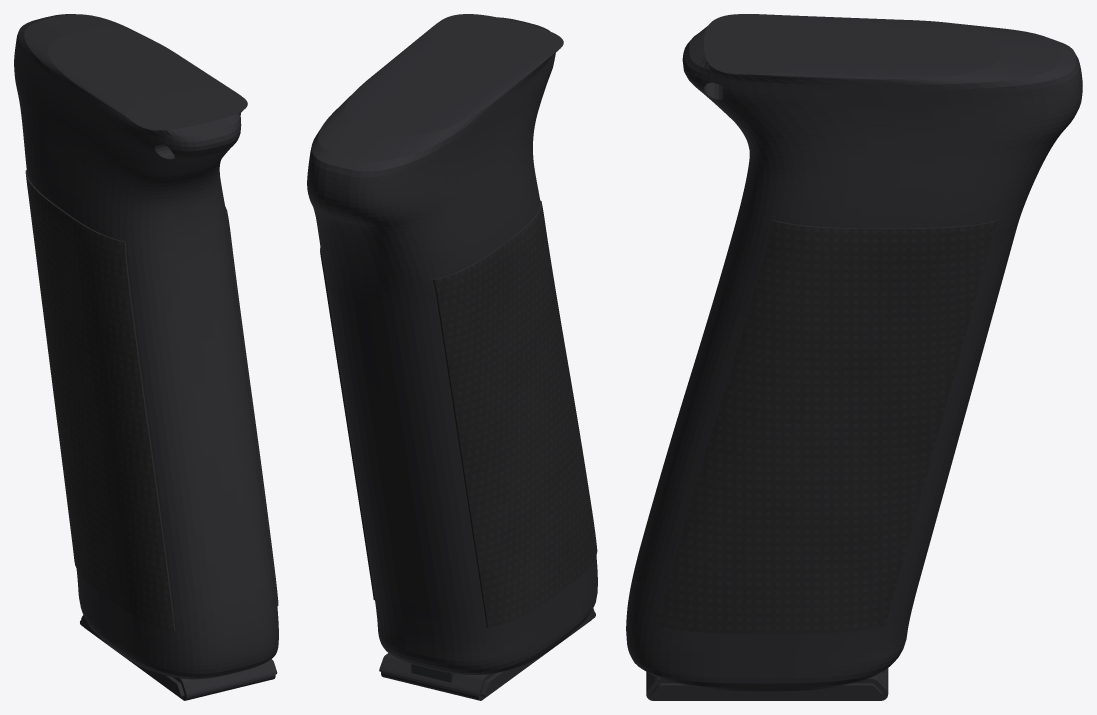
Rendered from punho_reto.glb.
3 views of the same model, side by side, from view 1: azimuth 30°, elevation 25°; view 2: azimuth 150°, elevation 25°; view 3: azimuth 270°, elevation 25° (orthographic). The views are drawn at different scales.
Parts seen in each view (by area): view 1: punho_reto_polimero, punho_reto_polimero_pontos; view 2: punho_reto_polimero, punho_reto_polimero_pontos; view 3: punho_reto_polimero, punho_reto_polimero_pontos.
Part boxes in pixels (<box>): punho_reto_polimero: <box>14,14,278,700</box>; punho_reto_polimero_pontos: <box>25,170,278,631</box>; punho_reto_polimero: <box>307,14,597,700</box>; punho_reto_polimero_pontos: <box>320,200,597,627</box>; punho_reto_polimero: <box>626,14,1082,700</box>; punho_reto_polimero_pontos: <box>657,220,997,633</box>.
Bounding box in the file's own units: 0.0295 × 0.1148 × 0.0752.
3 materials, 1 textured.
